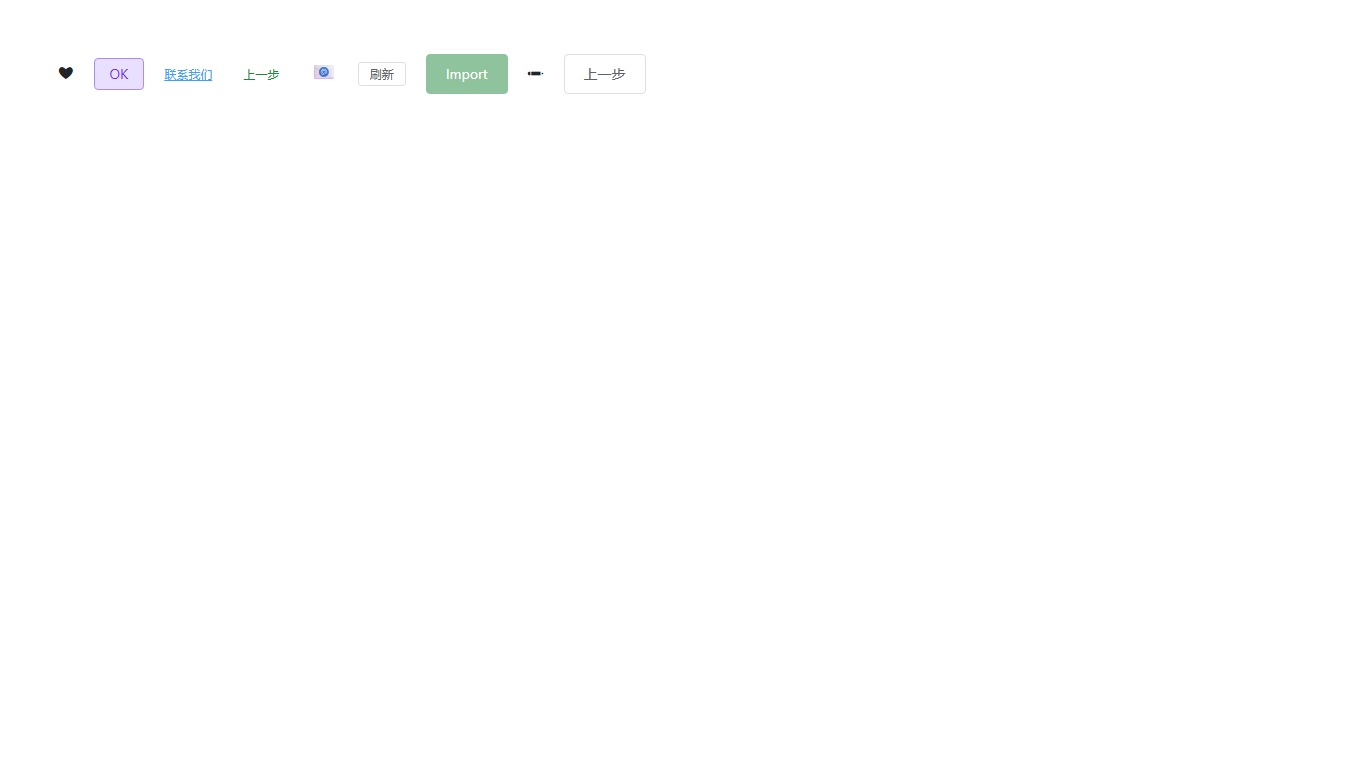button: (426, 54, 508, 94), (564, 54, 646, 94), (94, 58, 144, 90), (232, 63, 290, 85), (358, 62, 406, 86)
icon: (310, 61, 338, 81), (58, 65, 74, 81), (528, 65, 544, 81)
link: (164, 66, 212, 82)
